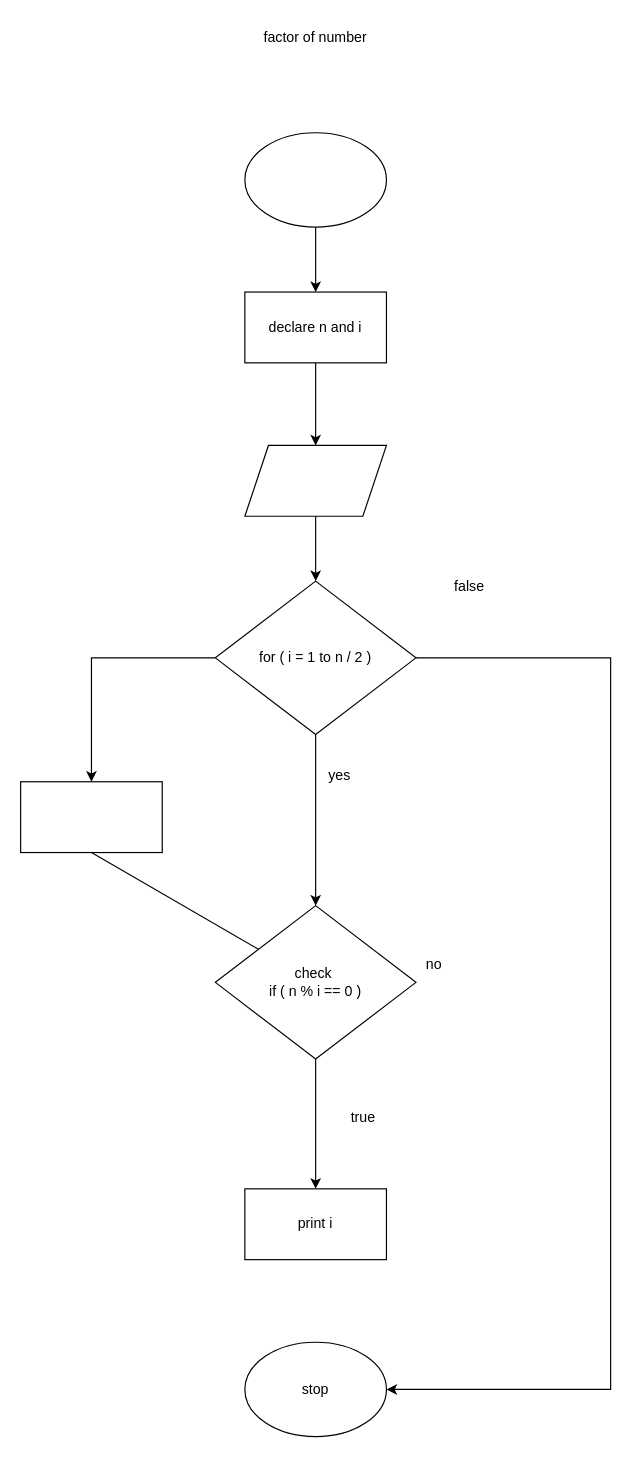
Some shapes in this 641 by 1457 pixel diagram are drawn without their labels. The shapes that lost their labels are listed below. From the top down, each one's centre as x and y in pixels, then its label:
At [315,179]: "start".
At [315,480]: "read n".
At [90,817]: "i = i + 1".
